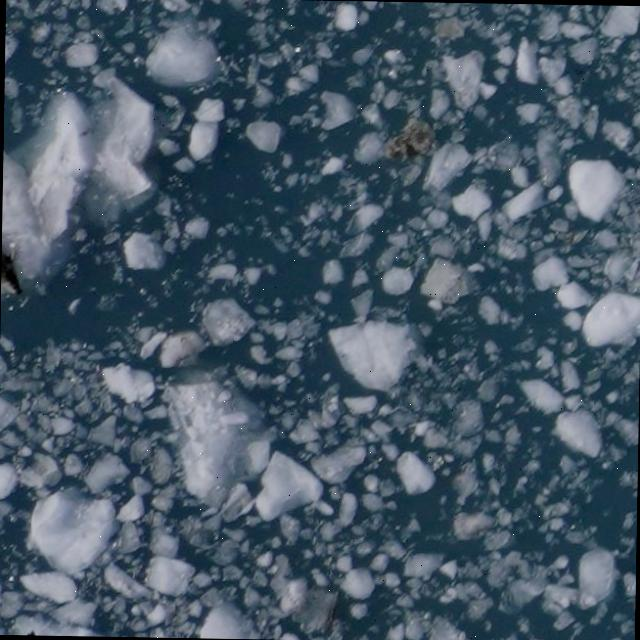seal: (0, 246, 26, 302)
